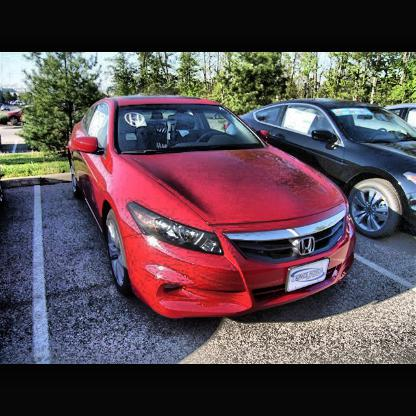Honda Accord Coupe 2012: (68, 96, 356, 318)
